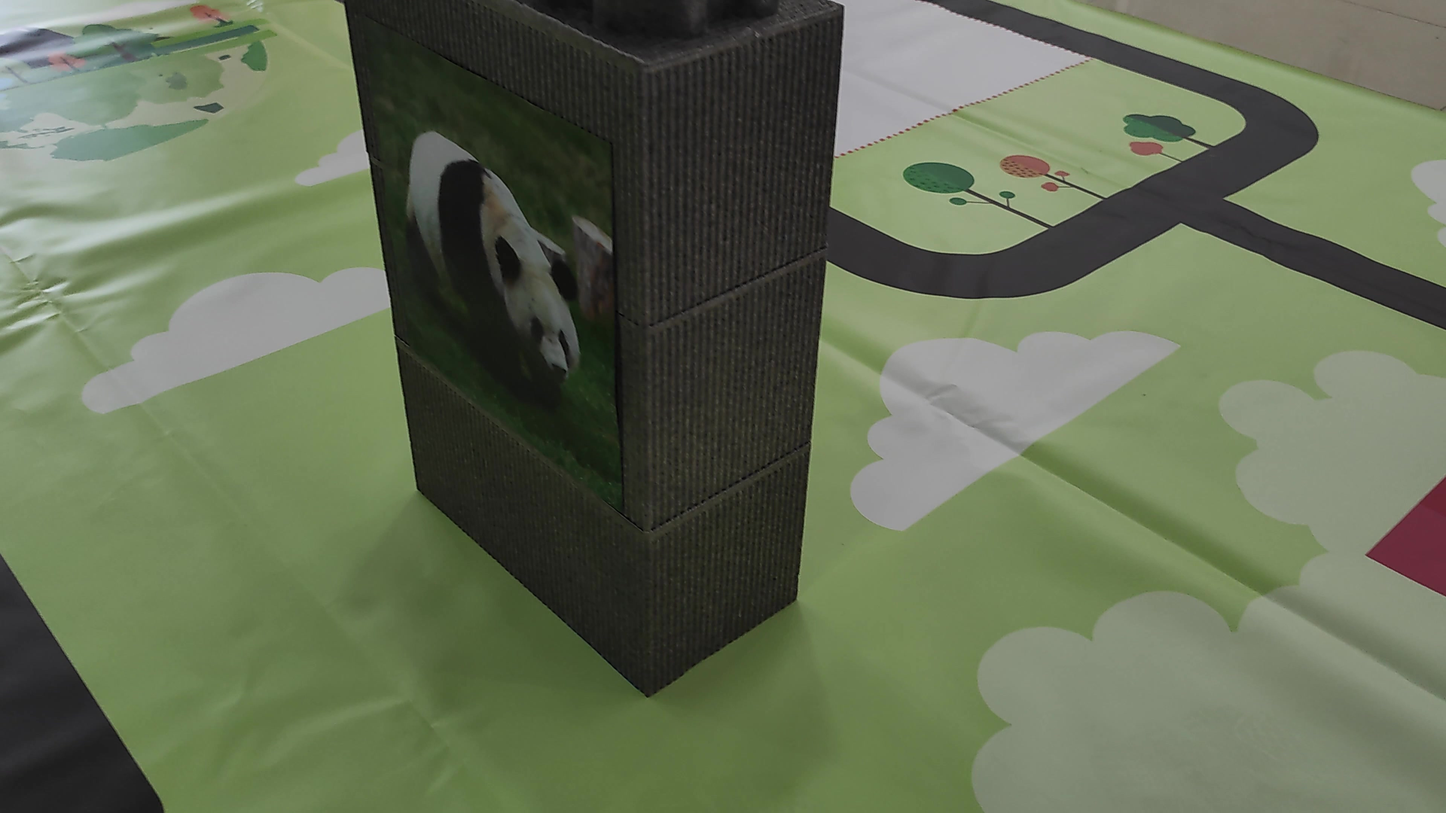panda: (381, 121, 599, 401)
